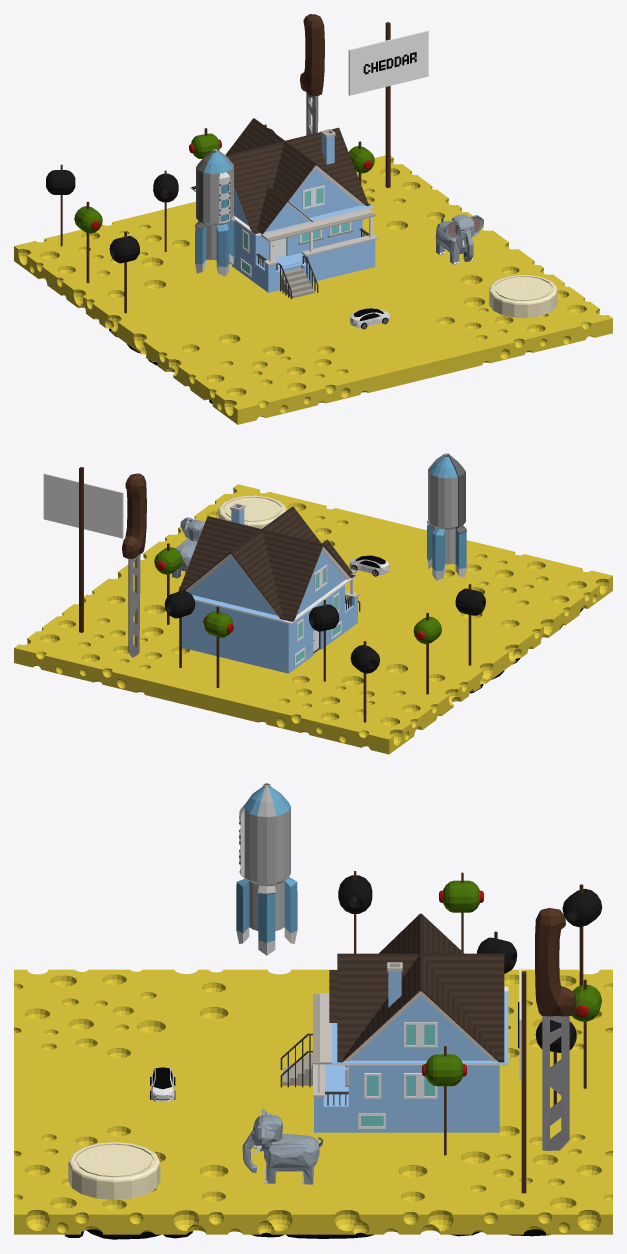
3 views of the same model, one above another, from view 1: azimuth 30°, elevation 25°; view 2: azimuth 150°, elevation 25°; view 3: azimuth 270°, elevation 25° (orthographic). The views are drawn at different scales.
Visible parts, largest first — view 1: Cube.022, Cube.1594, Cube.023, OBJRANDOM_ROCKETSHIP, Cylinder.016, Cube.024, ANIMAL_ELEFANTE, Sphere.017, Sphere.016, Sphere.018, Sphere.020, VEHICLES_TESLA (+2 smaller); view 2: Cube.022, Cube.1594, Cube.023, OBJRANDOM_ROCKETSHIP, Cube.024, Cylinder.016, Sphere.017, ANIMAL_ELEFANTE, Sphere.022, Sphere.016, Sphere.021, Sphere.020 (+3 smaller); view 3: Cube.022, Cube.1594, OBJRANDOM_ROCKETSHIP, Cube.024, Cylinder.016, ANIMAL_ELEFANTE, Cube.023, Sphere.016, Sphere.019, Curve.014, Sphere.018, Sphere.017 (+4 smaller).
Part boxes in pixels (x1=…): Cube.022: x1=14, y1=155, x2=612, y2=424; Cube.1594: x1=190, y1=118, x2=378, y2=299; Cube.023: x1=348, y1=22, x2=428, y2=188; OBJRANDOM_ROCKETSHIP: x1=195, y1=149, x2=234, y2=276; Cylinder.016: x1=489, y1=275, x2=557, y2=317; Cube.024: x1=300, y1=14, x2=324, y2=135; ANIMAL_ELEFANTE: x1=435, y1=214, x2=483, y2=264; Sphere.017: x1=109, y1=231, x2=139, y2=313; Sphere.016: x1=46, y1=164, x2=75, y2=246; Sphere.018: x1=74, y1=201, x2=102, y2=283; Sphere.020: x1=153, y1=170, x2=178, y2=251; VEHICLES_TESLA: x1=350, y1=308, x2=390, y2=329; Cube.022: x1=14, y1=484, x2=612, y2=754; Cube.1594: x1=177, y1=503, x2=360, y2=673; Cube.023: x1=43, y1=467, x2=123, y2=632; OBJRANDOM_ROCKETSHIP: x1=426, y1=453, x2=466, y2=580; Cube.024: x1=122, y1=473, x2=146, y2=657; Cylinder.016: x1=218, y1=495, x2=286, y2=528; Sphere.017: x1=455, y1=584, x2=485, y2=665; ANIMAL_ELEFANTE: x1=172, y1=517, x2=204, y2=578; Sphere.022: x1=203, y1=606, x2=233, y2=687; Sphere.016: x1=350, y1=641, x2=379, y2=722; Sphere.021: x1=164, y1=586, x2=195, y2=667; Sphere.020: x1=309, y1=600, x2=339, y2=681; Cube.022: x1=14, y1=969, x2=612, y2=1234; Cube.1594: x1=280, y1=913, x2=508, y2=1132; OBJRANDOM_ROCKETSHIP: x1=236, y1=783, x2=297, y2=955; Cube.024: x1=535, y1=908, x2=576, y2=1150; Cylinder.016: x1=68, y1=1142, x2=160, y2=1199; ANIMAL_ELEFANTE: x1=242, y1=1109, x2=323, y2=1184; Cube.023: x1=518, y1=968, x2=526, y2=1193; Sphere.016: x1=562, y1=884, x2=602, y2=985; Sphere.019: x1=422, y1=1046, x2=466, y2=1155; Curve.014: x1=65, y1=1229, x2=550, y2=1239; Sphere.018: x1=439, y1=872, x2=483, y2=952; Sphere.017: x1=338, y1=871, x2=372, y2=953.
Bounding box in the file's own units: 3917 × 1980 × 4000.
Materials: 37 (3 with a texture image).
